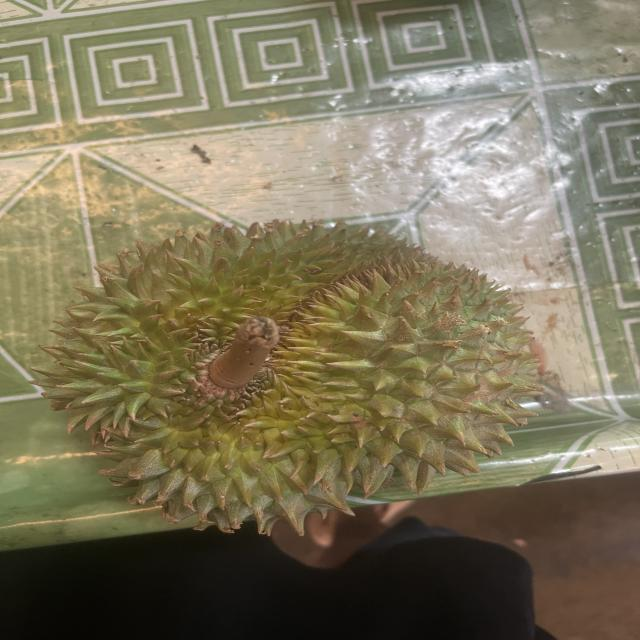mature: (24, 186, 570, 559)
